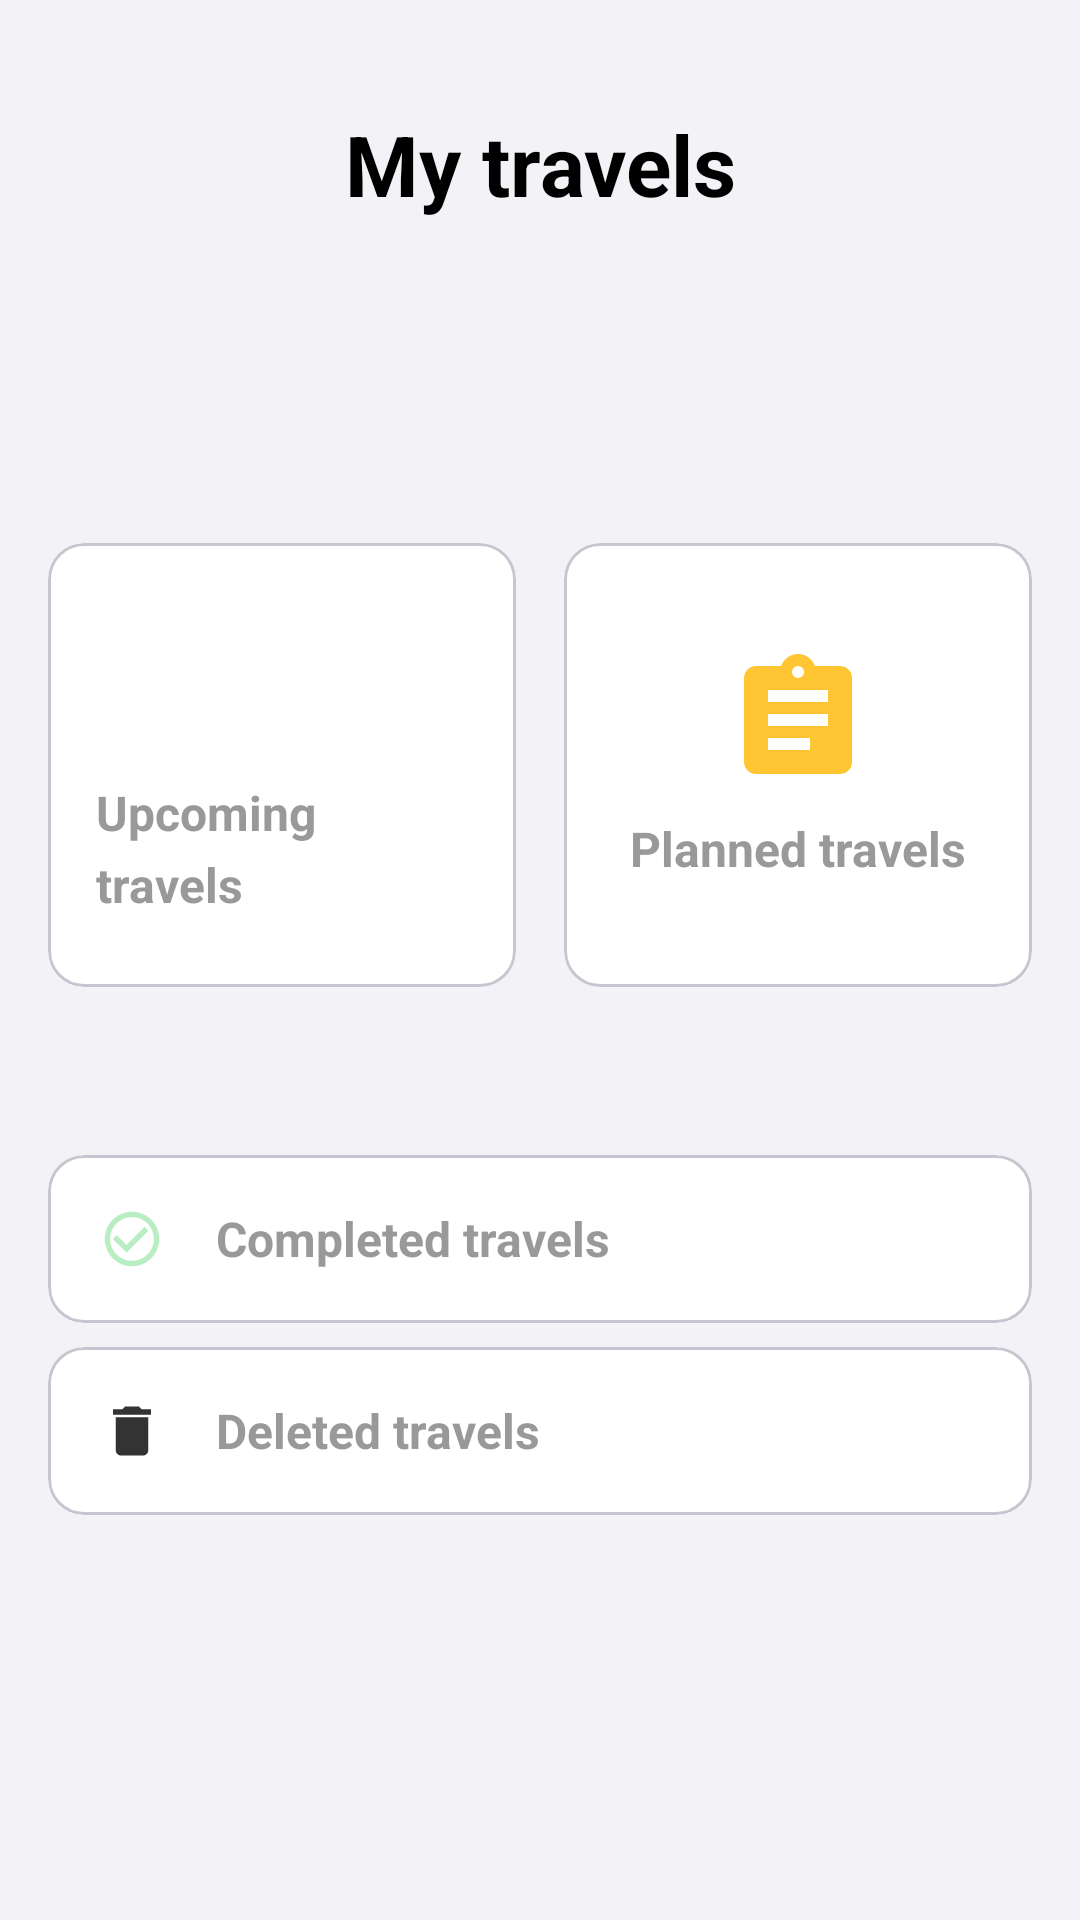

Point at icon controls on the screen. Image size 1080px x 1920px, points as [x,y].
compltrbutimagge: [132,1239]
deltrbutimagge: [132,1431]
plannedbuttimagge: [798,714]
